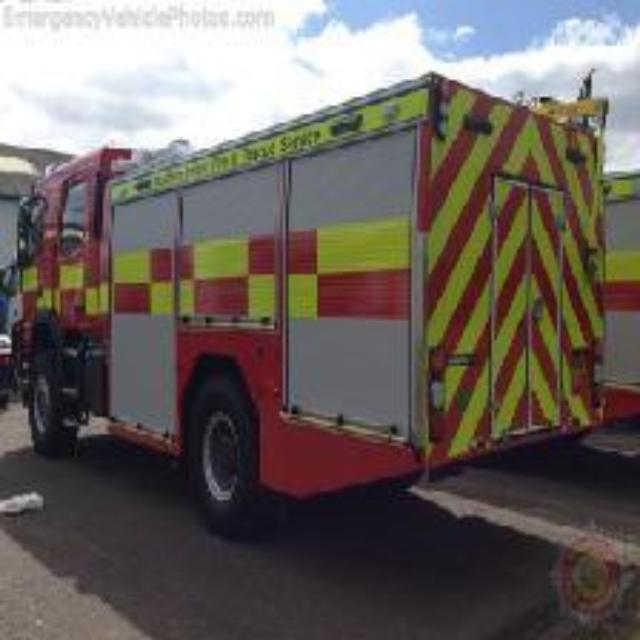emergency: (12, 82, 594, 498)
